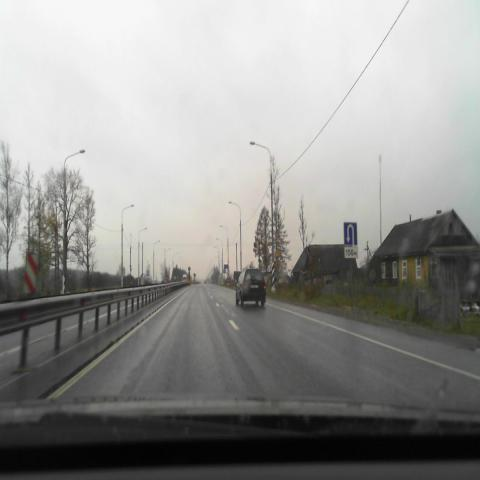6_3_1: (344, 222, 357, 245)
